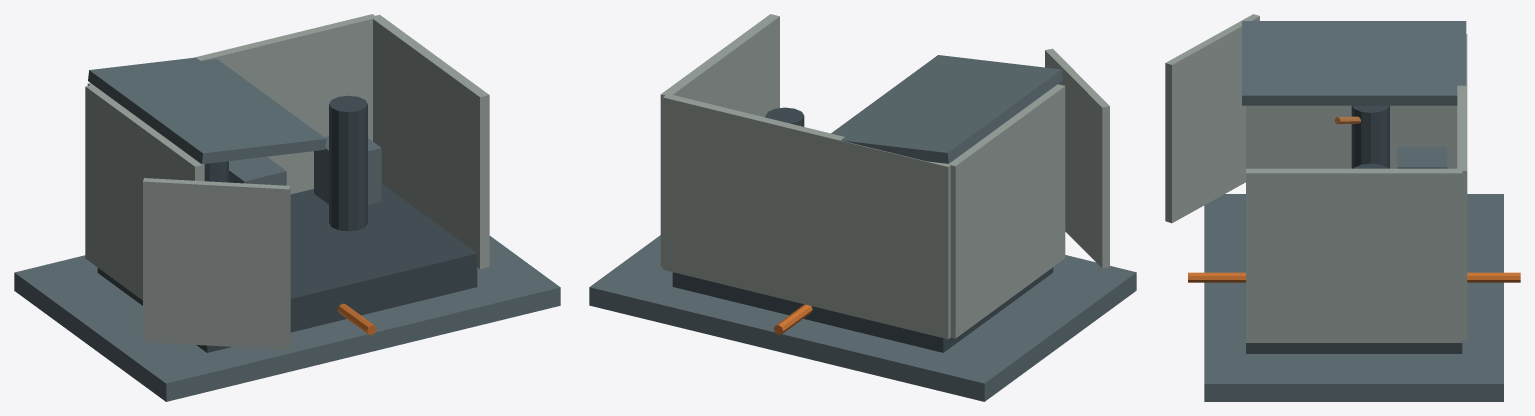
The model's file is solar_power_station_d2.glb.
3 renders of one model, left to right at view 1: azimuth 30°, elevation 25°; view 2: azimuth 150°, elevation 25°; view 3: azimuth 270°, elevation 25°, orthographic.
Parts seen in each view (by area): view 1: SOLAR_GAME_MESH; view 2: SOLAR_GAME_MESH; view 3: SOLAR_GAME_MESH.
Boxes of the visible parts, left/top/right/bottom form: SOLAR_GAME_MESH: left=14, top=14, right=560, bottom=401; SOLAR_GAME_MESH: left=589, top=14, right=1136, bottom=401; SOLAR_GAME_MESH: left=1165, top=14, right=1520, bottom=401.
Bounding box in the file's own units: 5.4 × 2.89 × 4.27.
